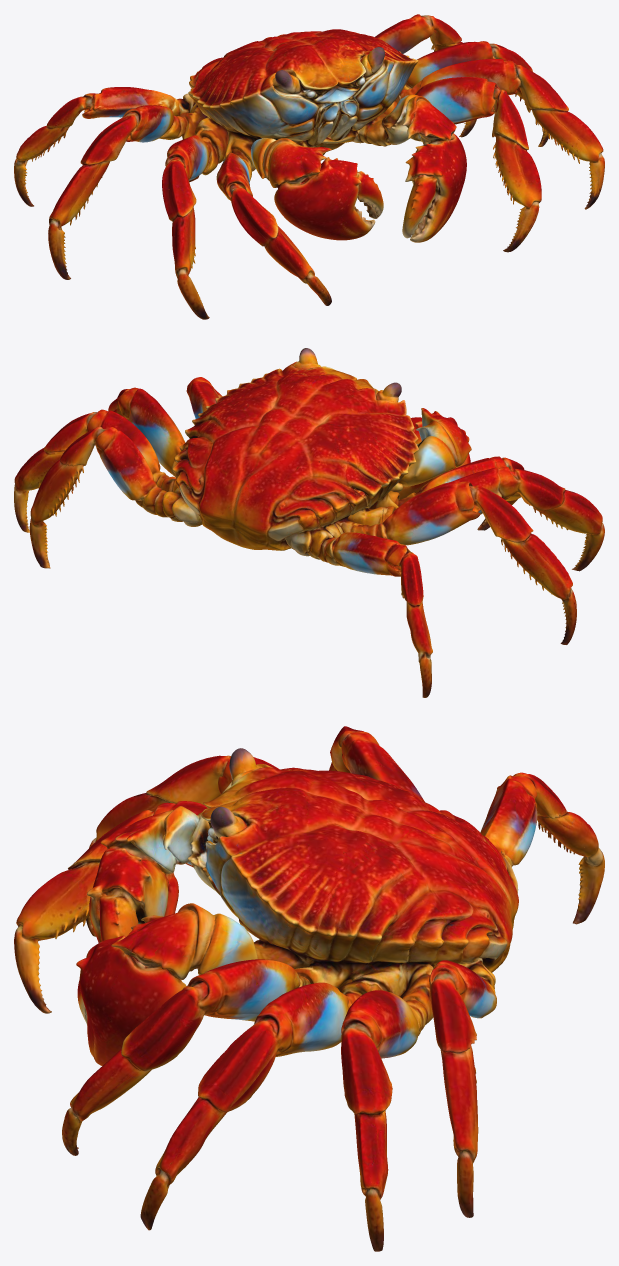
File: grab3d-crab.glb
3 renders of one model, top to bottom at view 1: azimuth 30°, elevation 25°; view 2: azimuth 150°, elevation 25°; view 3: azimuth 270°, elevation 25°, orthographic. The views are drawn at different scales.
Visible parts, largest first — view 1: crab; view 2: crab; view 3: crab.
Boxes of the visible parts, x1,y1,x2,y2 form: crab: (14, 14, 604, 319); crab: (14, 348, 604, 697); crab: (14, 726, 604, 1251).
Bounding box in the file's own units: 0.2 × 0.0694 × 0.1302.
1 material, 1 textured.
